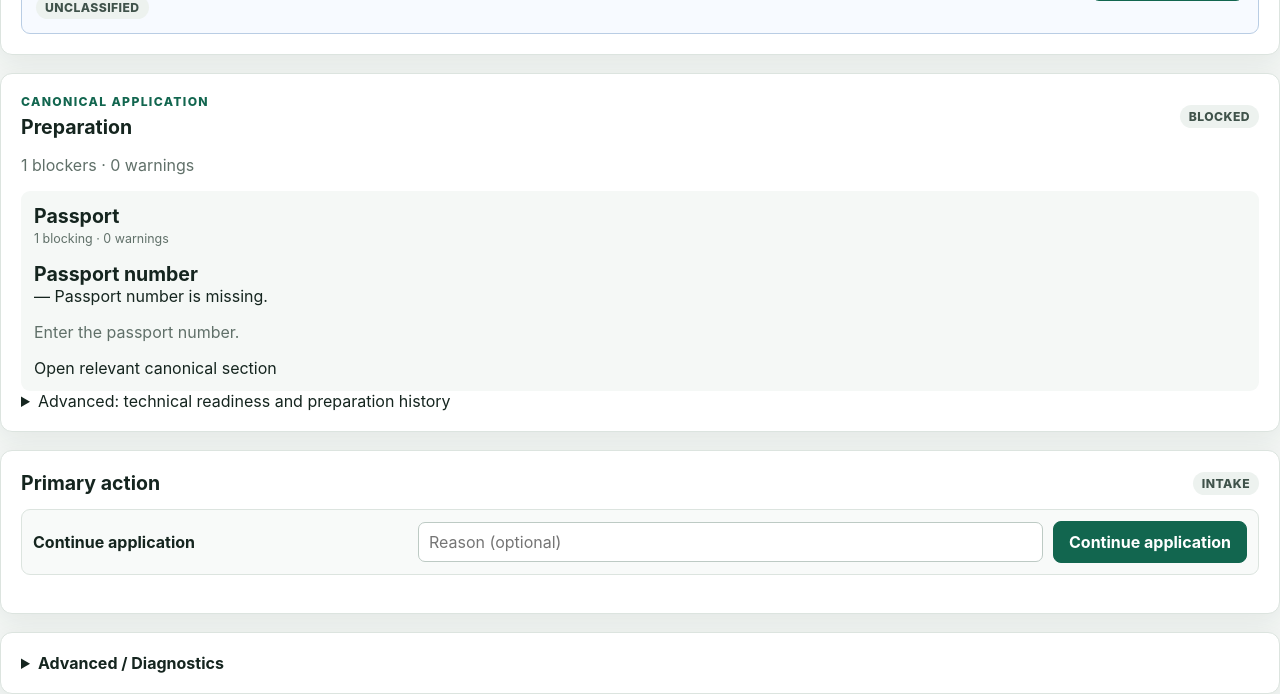
it: surfaces transition gate errors
(page scrolled)
Click the button "Continue application". click: coordinates (1150, 542)
box: x1=1053 y1=521 x2=1247 y2=563
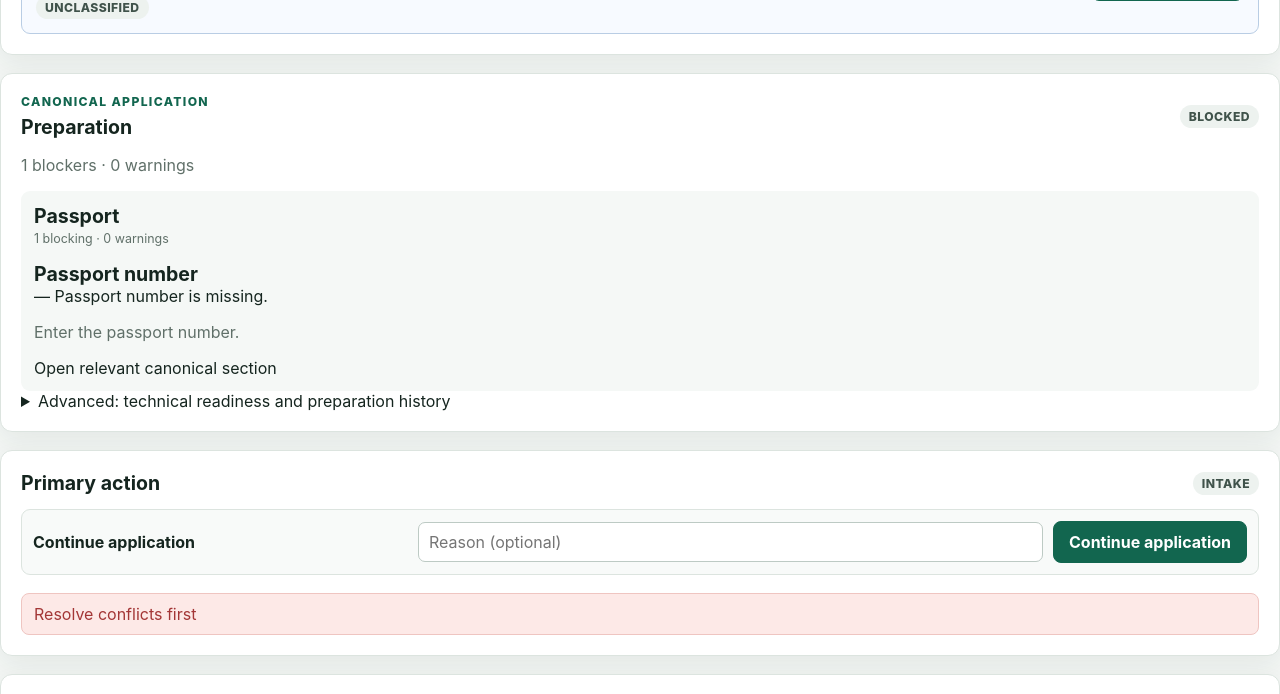
Now the text "Resolve conflicts first" is shown, box x1=21 y1=593 x2=1259 y2=635
